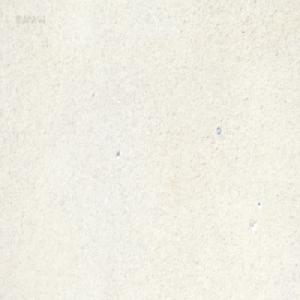Washer: (215, 124, 221, 135)
